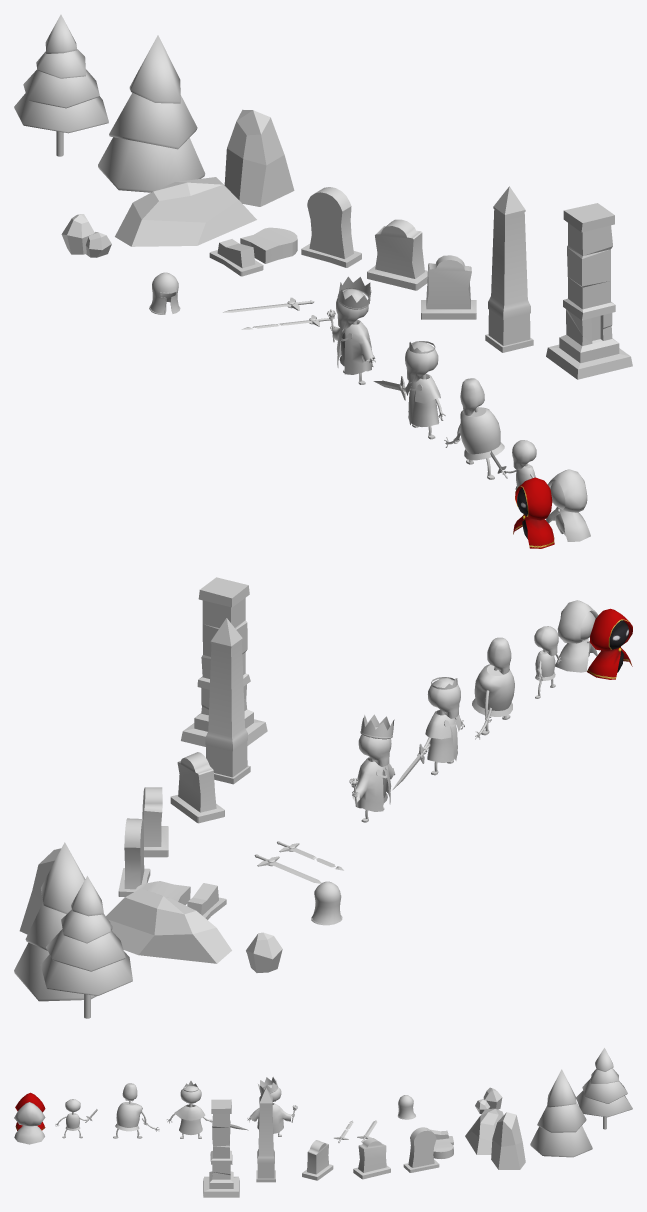
Rendered from Helmet.FBX.
3 views of the same model, one above another, from view 1: azimuth 30°, elevation 25°; view 2: azimuth 150°, elevation 25°; view 3: azimuth 270°, elevation 25° (orthographic). The views are drawn at different scales.
Parts seen in each view (by area): view 1: Box002, rock1, Box001, rock3, Pyramid007, Pyramid006, Cylinder005, Box004, Box003, Cone004 (×2), Pyramid004, Material #2 (+11 smaller); view 2: rock1, Box001, Box002, Cone004 (×2), Box003, Pyramid004, Material #2, Pyramid003, player2, Pyramid005, Cylinder005, Pyramid007 (+15 smaller); view 3: Box002, rock3, Box001, Pyramid007, Cylinder005, Pyramid006, Box004, rock1, Cone004 (×2), player2, Box003, Pyramid004 (+11 smaller).
Boxes of the visible parts, left/top/right/bottom form: Box002: left=546, top=203, right=632, bottom=379; rock1: left=115, top=177, right=256, bottom=246; Box001: left=485, top=186, right=533, bottom=352; rock3: left=224, top=109, right=294, bottom=206; Pyramid007: left=98, top=137, right=205, bottom=192; Pyramid006: left=109, top=92, right=197, bottom=149; Cylinder005: left=301, top=187, right=361, bottom=267; Box004: left=367, top=219, right=427, bottom=290; Box003: left=421, top=255, right=476, bottom=319; Cone004 (×2): left=405, top=374, right=504, bottom=460; Pyramid004: left=14, top=93, right=108, bottom=133; Material #2: left=513, top=477, right=554, bottom=548; rock1: left=106, top=888, right=231, bottom=963; Box001: left=205, top=618, right=250, bottom=784; Box002: left=181, top=577, right=267, bottom=746; Cone004 (×2): left=425, top=664, right=514, bottom=760; Box003: left=170, top=752, right=224, bottom=823; Pyramid004: left=40, top=951, right=132, bottom=995; Material #2: left=587, top=608, right=632, bottom=679; Pyramid003: left=46, top=929, right=125, bottom=971; player2: left=555, top=600, right=598, bottom=672; Pyramid005: left=41, top=842, right=85, bottom=914; Cylinder005: left=118, top=818, right=150, bottom=897; Pyramid007: left=14, top=942, right=96, bottom=1001; Box002: left=203, top=1099, right=239, bottom=1197; rock3: left=491, top=1112, right=525, bottom=1169; Box001: left=256, top=1088, right=275, bottom=1182; Pyramid007: left=530, top=1126, right=592, bottom=1157; Cylinder005: left=403, top=1127, right=439, bottom=1172; Pyramid006: left=537, top=1102, right=586, bottom=1132; Box004: left=353, top=1138, right=390, bottom=1179; rock1: left=465, top=1108, right=503, bottom=1154; Cone004 (×2): left=115, top=1102, right=205, bottom=1131; player2: left=14, top=1102, right=45, bottom=1144; Box003: left=302, top=1140, right=333, bottom=1180; Pyramid004: left=576, top=1090, right=632, bottom=1117.
Size of the model in its own units: 20719 by 10124 by 60618.
